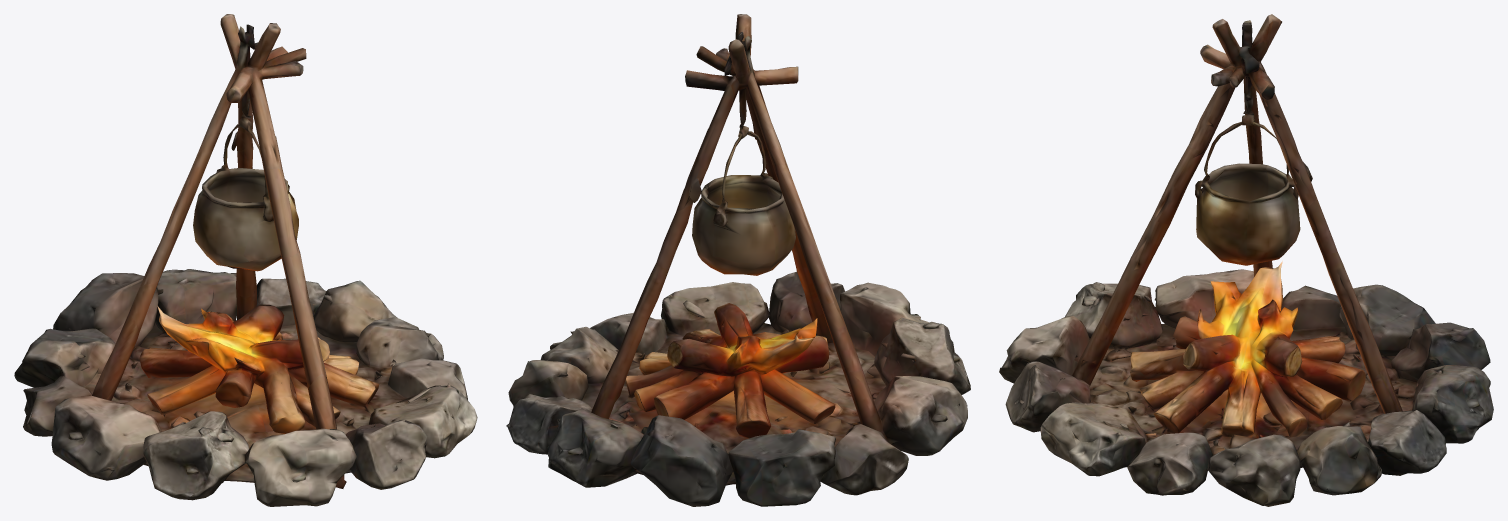
File: campfire-mid.glb
3 renders of one model, left to right at view 1: azimuth 30°, elevation 25°; view 2: azimuth 150°, elevation 25°; view 3: azimuth 270°, elevation 25°, orthographic.
Size of the model in its own units: 0.9149 by 0.9061 by 0.9983.
1 material, 1 textured.
